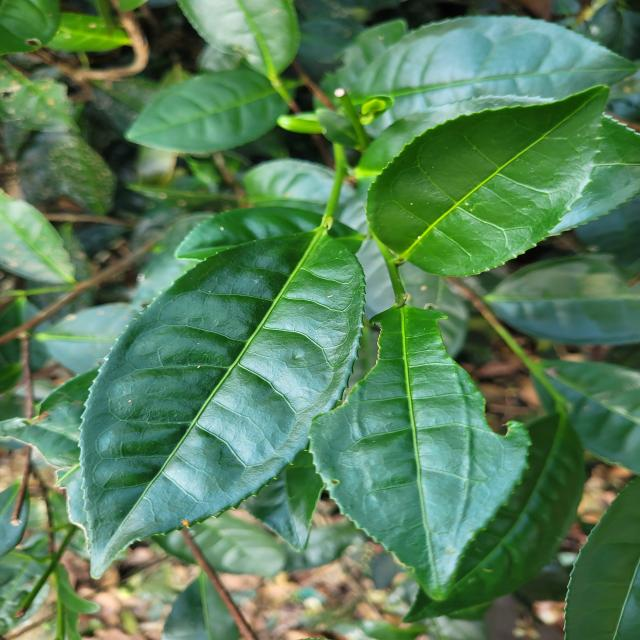Category D(7+ days, Not for Tea): (53, 190, 394, 590)
